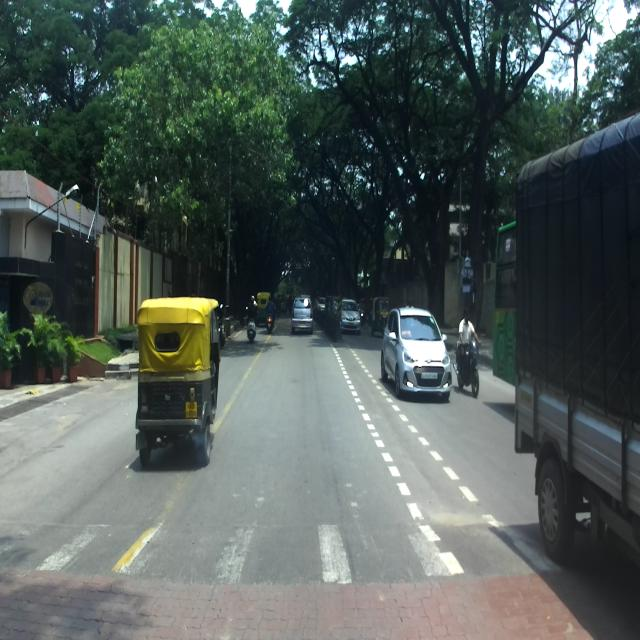auto ahead at: (136, 291, 219, 466)
car ahead at: (384, 303, 455, 402)
truck ahead at: (505, 111, 640, 565)
